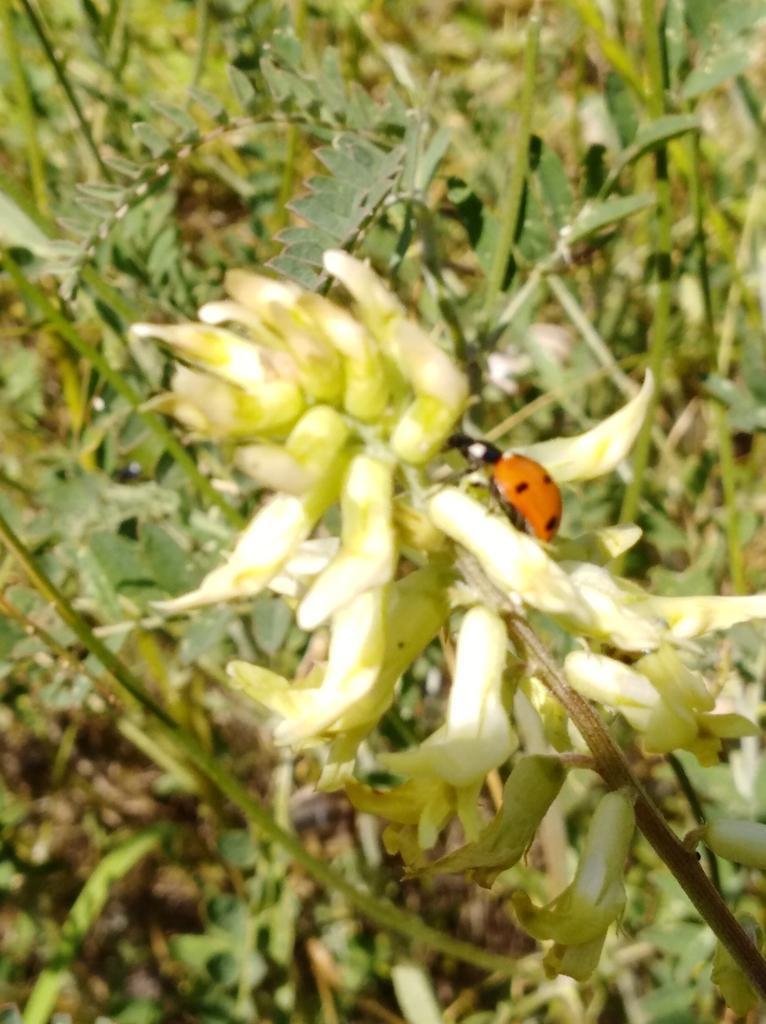ladybug: (425, 432, 564, 543)
